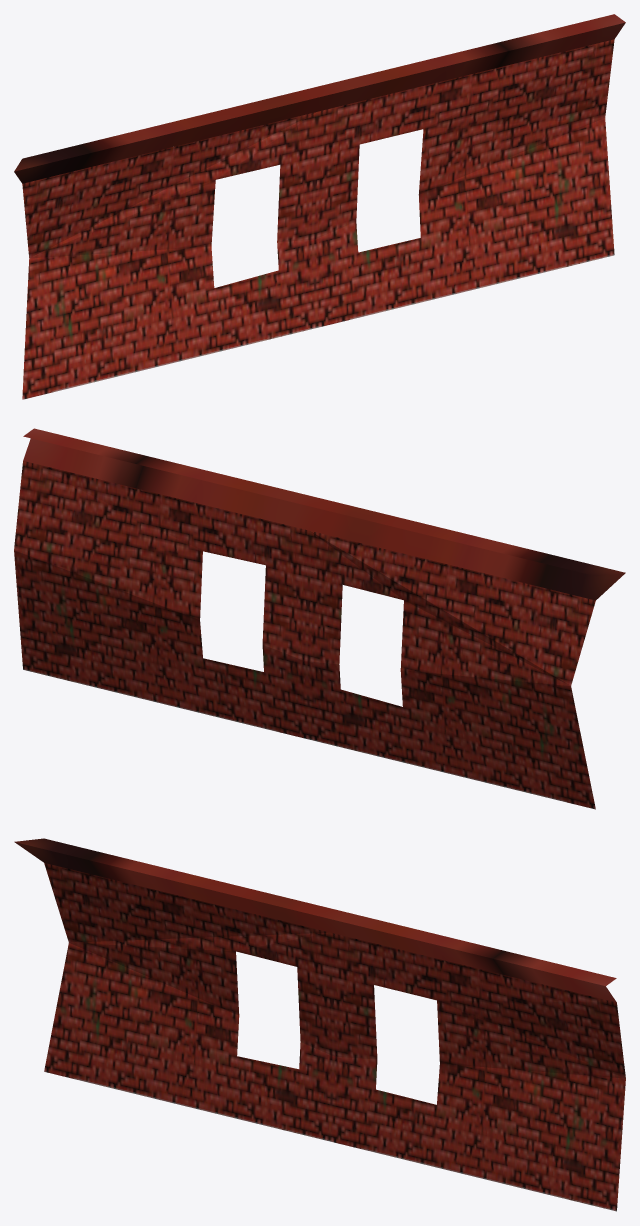
Rendered from W_A2l_xffx [DunkelroteZiegel]_2037.glb.
3 renders of one model, top to bottom at view 1: azimuth 30°, elevation 25°; view 2: azimuth 150°, elevation 25°; view 3: azimuth 330°, elevation 25°, orthographic. The views are drawn at different scales.
Parts seen in each view (by area): view 1: polySurfaceShape871, polySurfaceShape1031; view 2: polySurfaceShape871, polySurfaceShape1031; view 3: polySurfaceShape871, polySurfaceShape1031.
Boxes of the visible parts, <box> form: polySurfaceShape871: <box>22,39,614,399</box>; polySurfaceShape1031: <box>14,14,625,183</box>; polySurfaceShape871: <box>14,461,595,809</box>; polySurfaceShape1031: <box>23,428,625,600</box>; polySurfaceShape871: <box>44,863,625,1211</box>; polySurfaceShape1031: <box>14,838,616,1002</box>.
Size of the model in its own units: 1.03 by 0.3891 by 0.0607.
2 materials, 2 textured.
